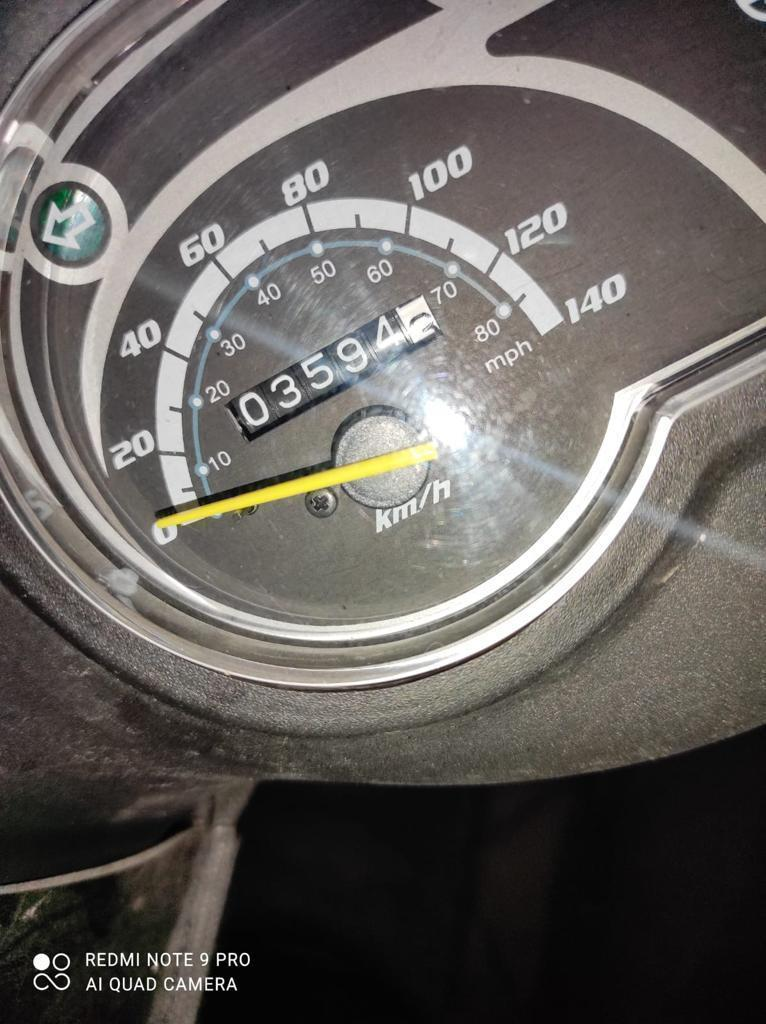0: (237, 390, 271, 427), (266, 281, 282, 302), (230, 331, 248, 349)
3: (267, 373, 305, 410), (403, 313, 442, 341)
4: (370, 312, 405, 351), (255, 287, 269, 308)
5: (298, 350, 334, 390)
7: (431, 284, 442, 304)
9: (334, 337, 370, 373)
odometer: (226, 288, 442, 446)
